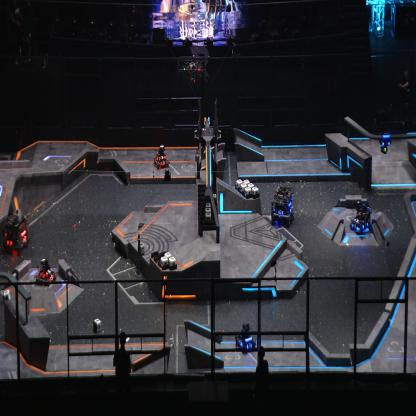car: (3, 210, 31, 255), (272, 185, 294, 226), (350, 199, 372, 235), (235, 321, 256, 356), (35, 257, 57, 288), (152, 143, 170, 171)
